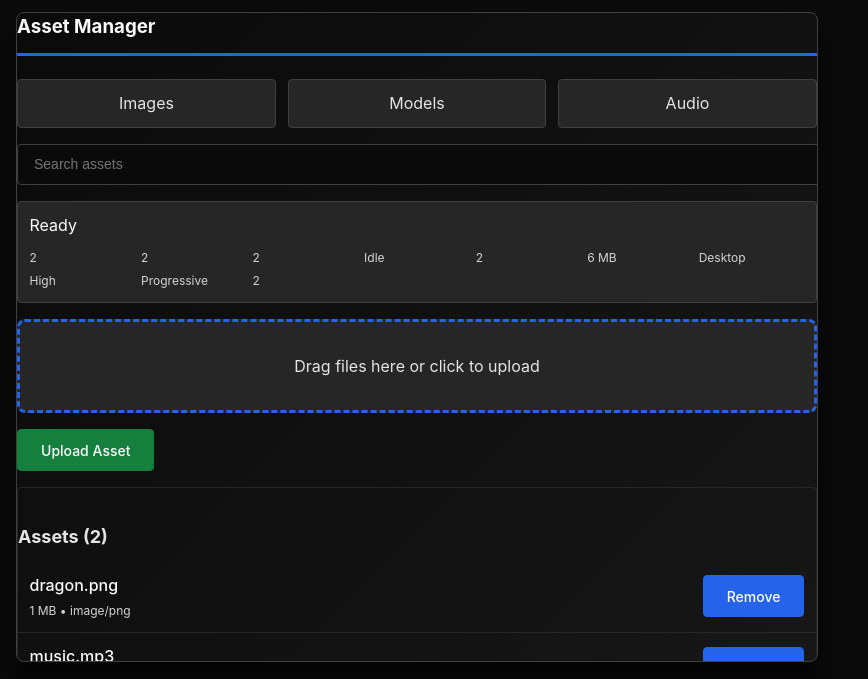
Test: Web Client TypeScript & WASM Systems Integration Tests › Asset Management - TypeScript & WASM Bridge › should manage assets with TypeScript safety and WASM processing
The width and height of the screenshot is (868, 679).
Expected: the button "Images" is shown, [17,79,276,128]
Expected: the button "Models" is shown, [288,79,546,128]
Note: User expects search to work with proper filtering
In the field with placeholder "Search assets": (434, 164) [17,144,851,185], type "dragon"
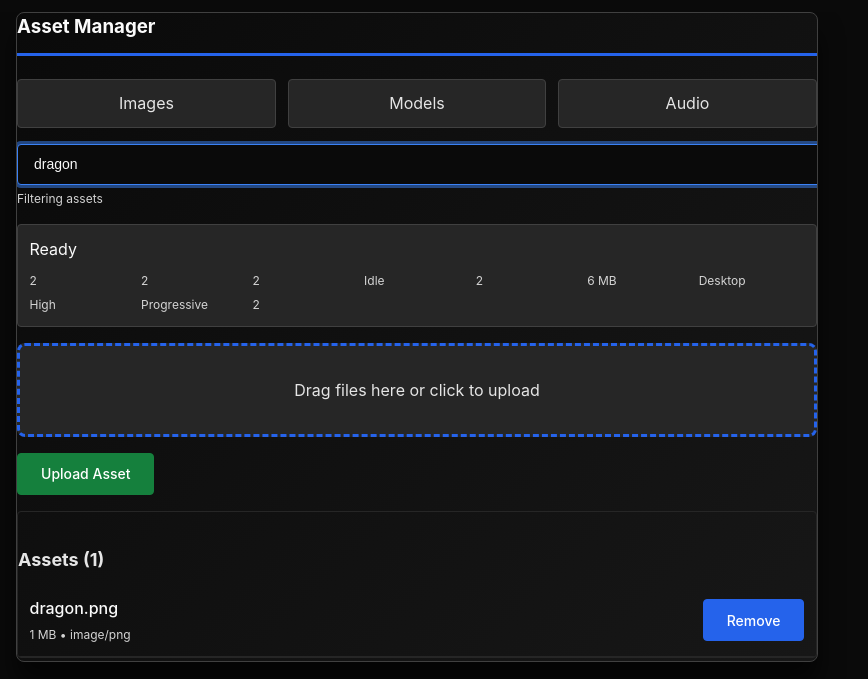
Now the text "Filtering assets" is shown, box [17,191,103,206]
